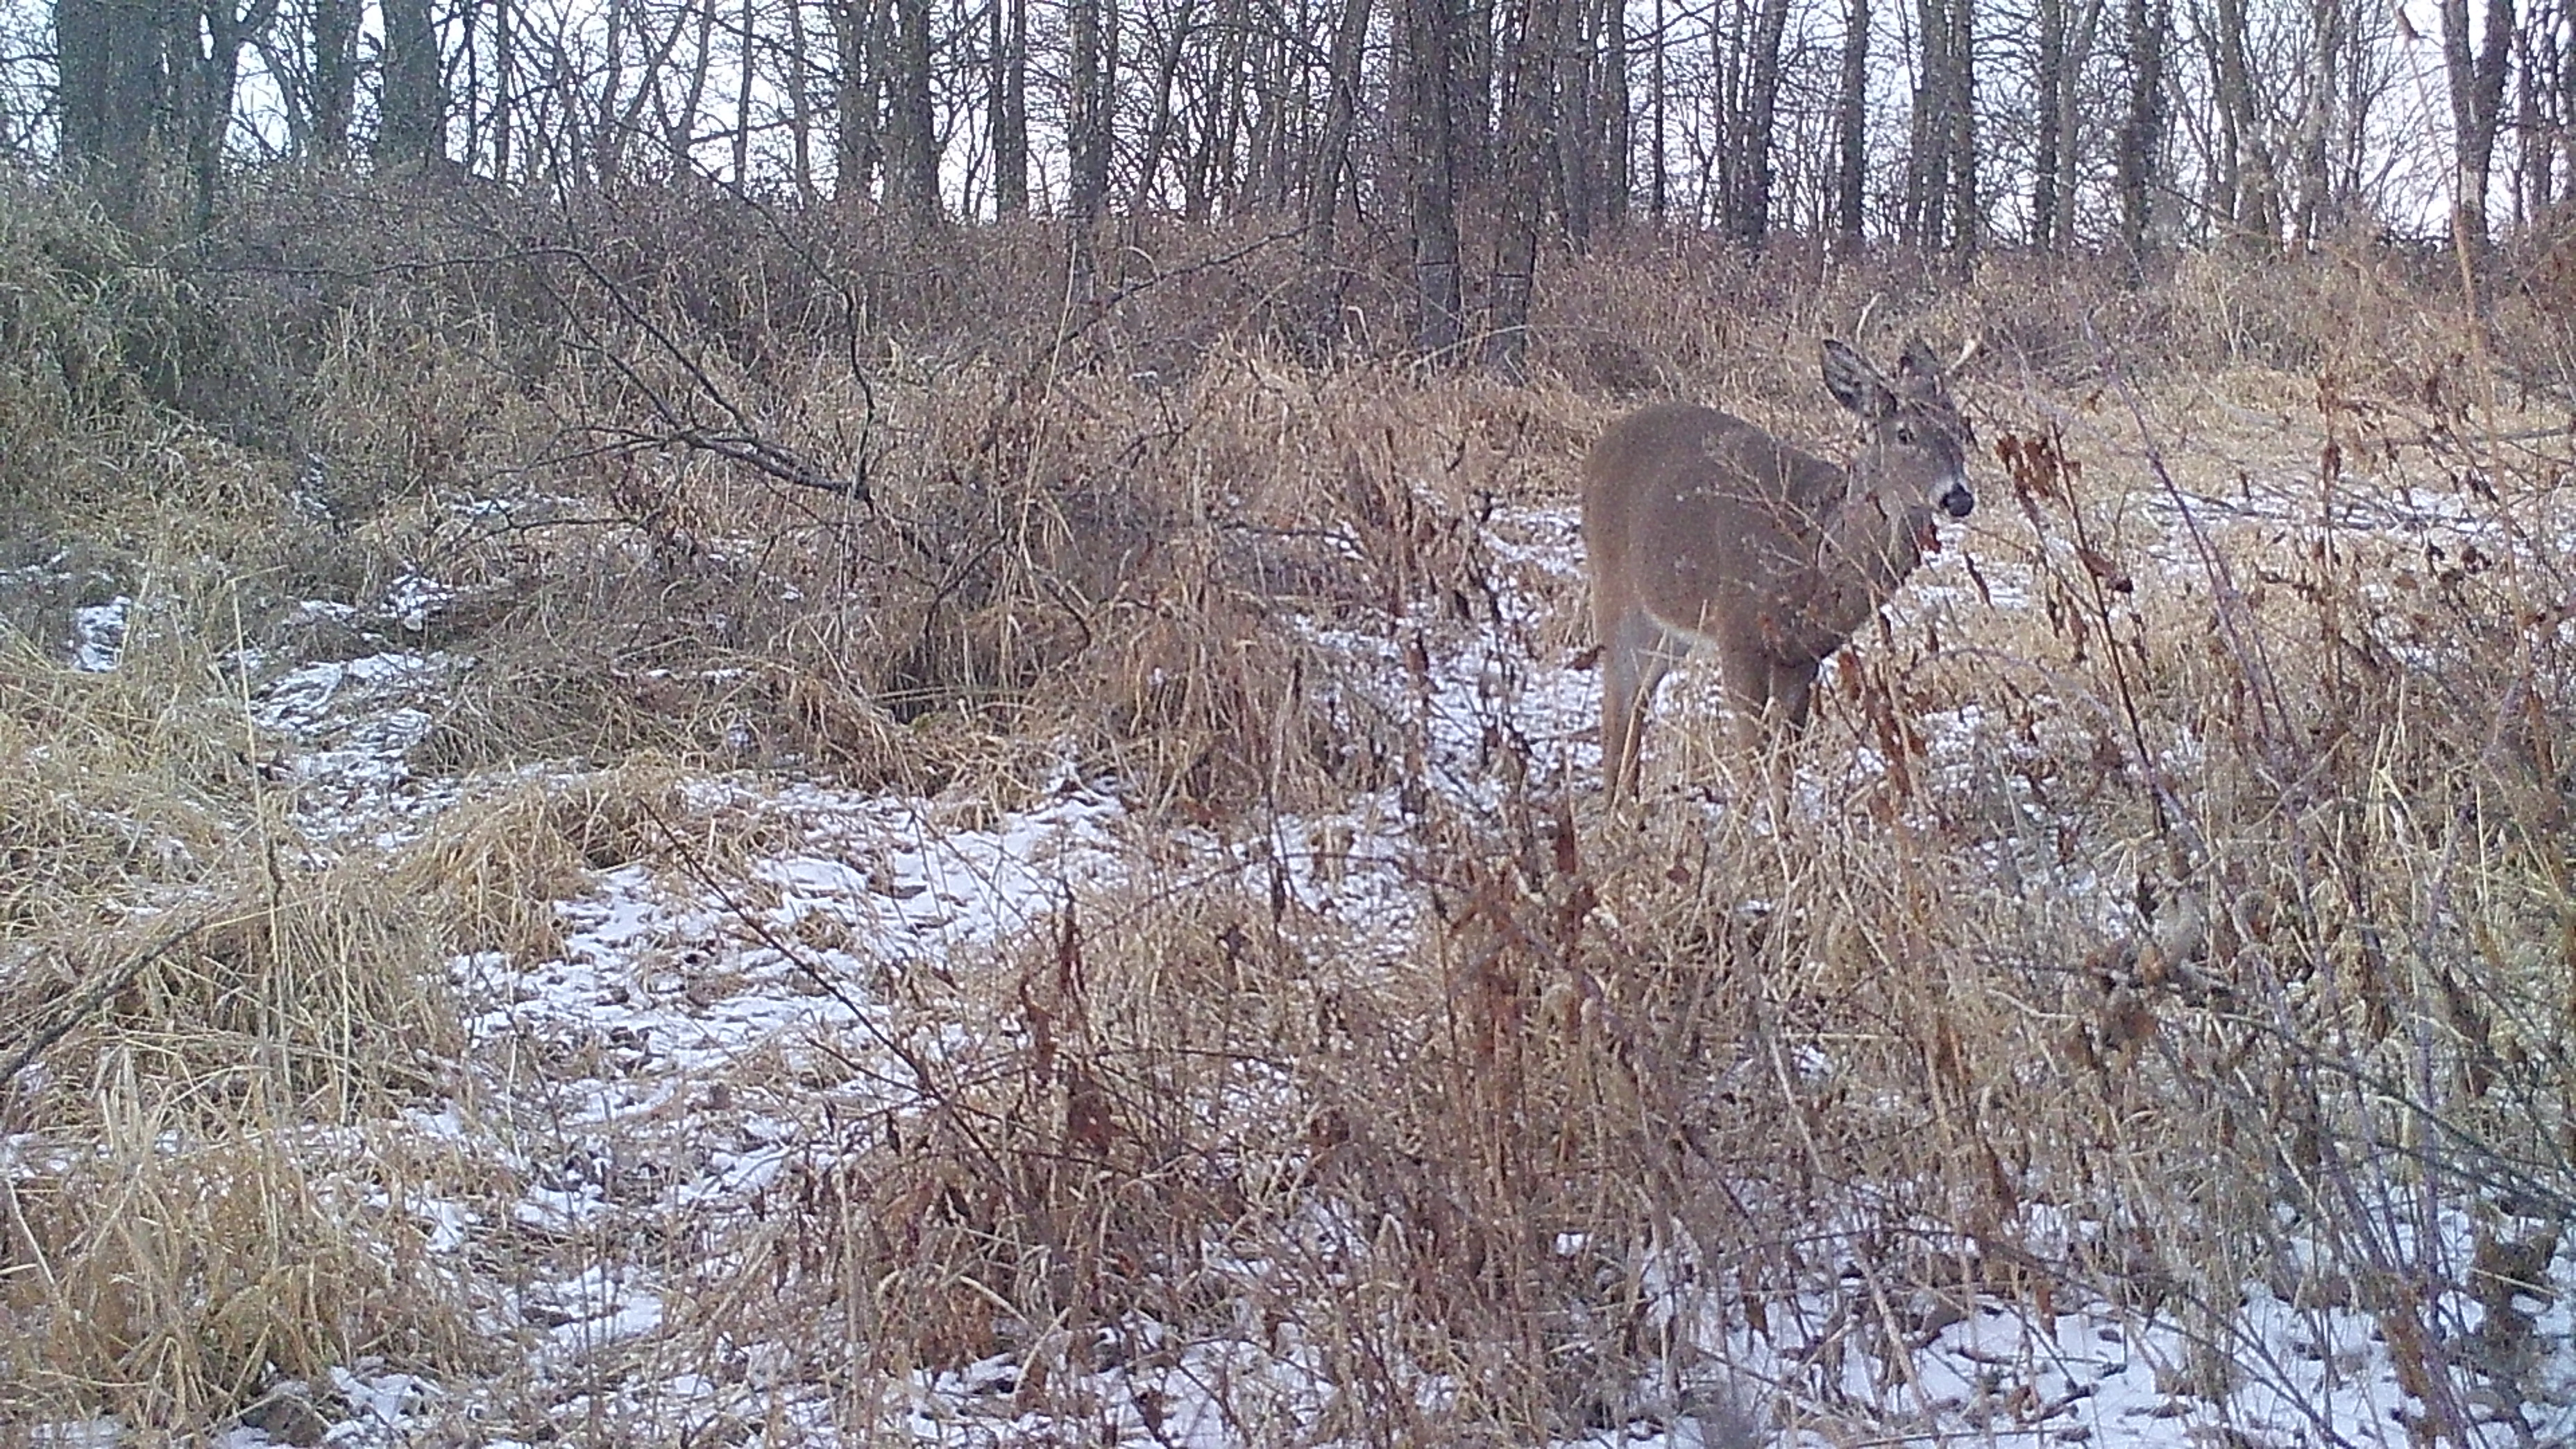DeerBuck: (1578, 290, 1991, 787)
DeerBuckHead: (1818, 289, 1992, 528)
